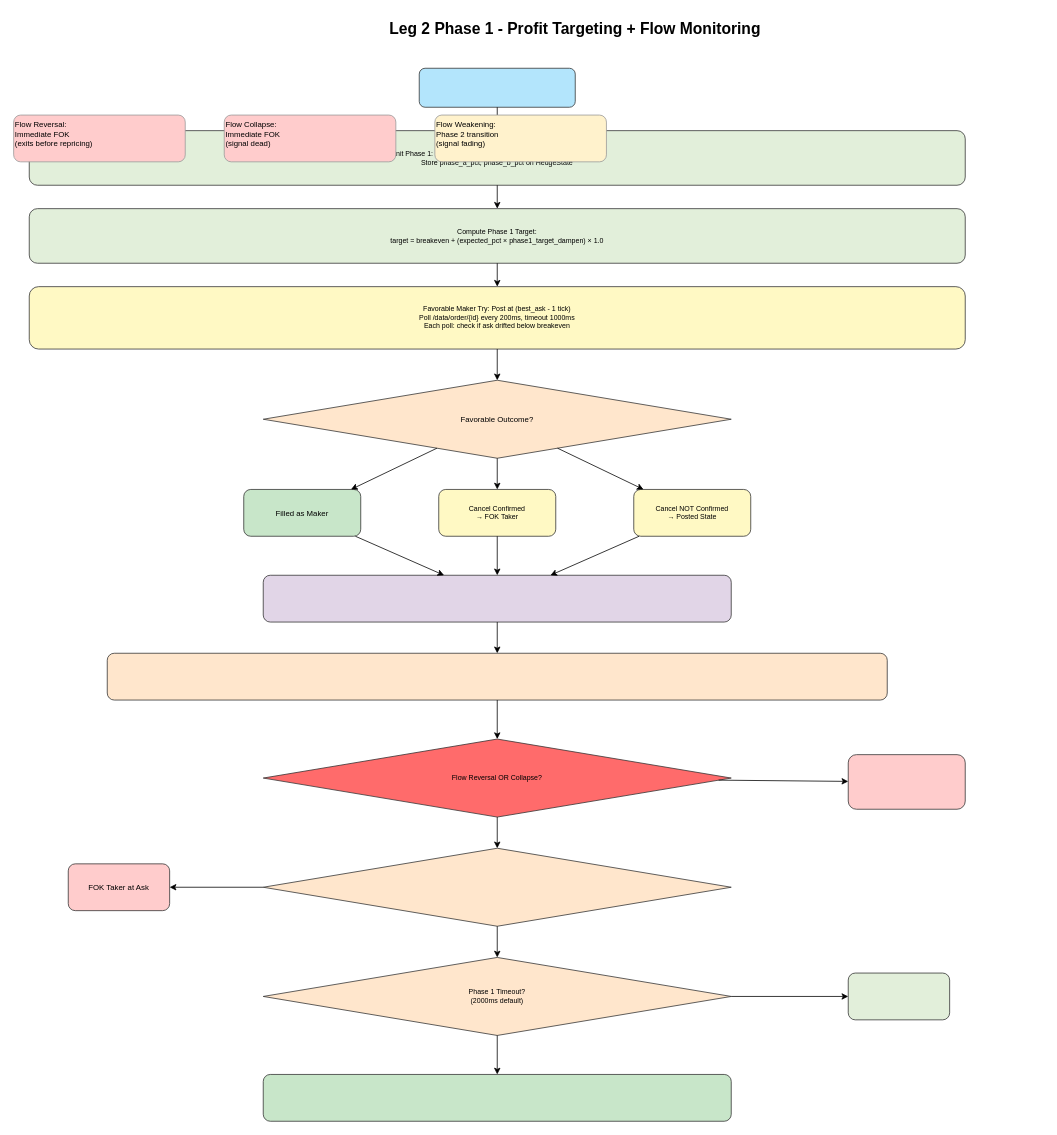
Image size: 1057x1135. Some labels were removed from this diagram. Here are the shapes that lost their labels. From the top down, the centre of each, then its label:
At [496,87]: "Leg 1 Filled".
At [496,598]: "Phase 1 Monitoring Loop".
At [496,676]: "Check Flow: Reversal? Collapse? Weakening?".
At [906,781]: "Emergency FOK ExitReason::FlowCollapse".
At [496,886]: "Phase 1 Breach? (pair_cost > threshold)".
At [898,996]: "→ Phase 2".
At [496,1097]: "Continue Phase 1".
